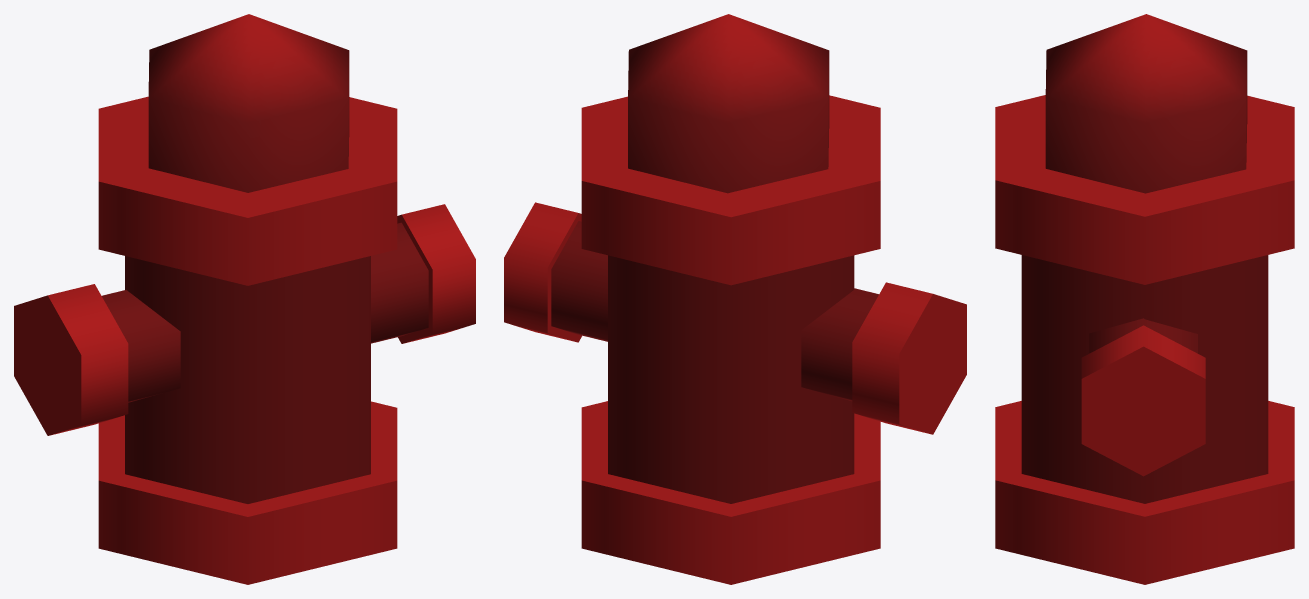
Rendered from Gidrant.FBX.
3 renders of one model, left to right at view 1: azimuth 30°, elevation 25°; view 2: azimuth 150°, elevation 25°; view 3: azimuth 270°, elevation 25°, orthographic.
Parts seen in each view (by area): view 1: gidrant001; view 2: gidrant001; view 3: gidrant001.
Boxes of the visible parts, box(x1,y1,x2,y2) form: gidrant001: box(14, 14, 475, 584); gidrant001: box(504, 14, 966, 584); gidrant001: box(995, 14, 1294, 584).
Size of the model in its own units: 5.63 by 6.73 by 3.66.
